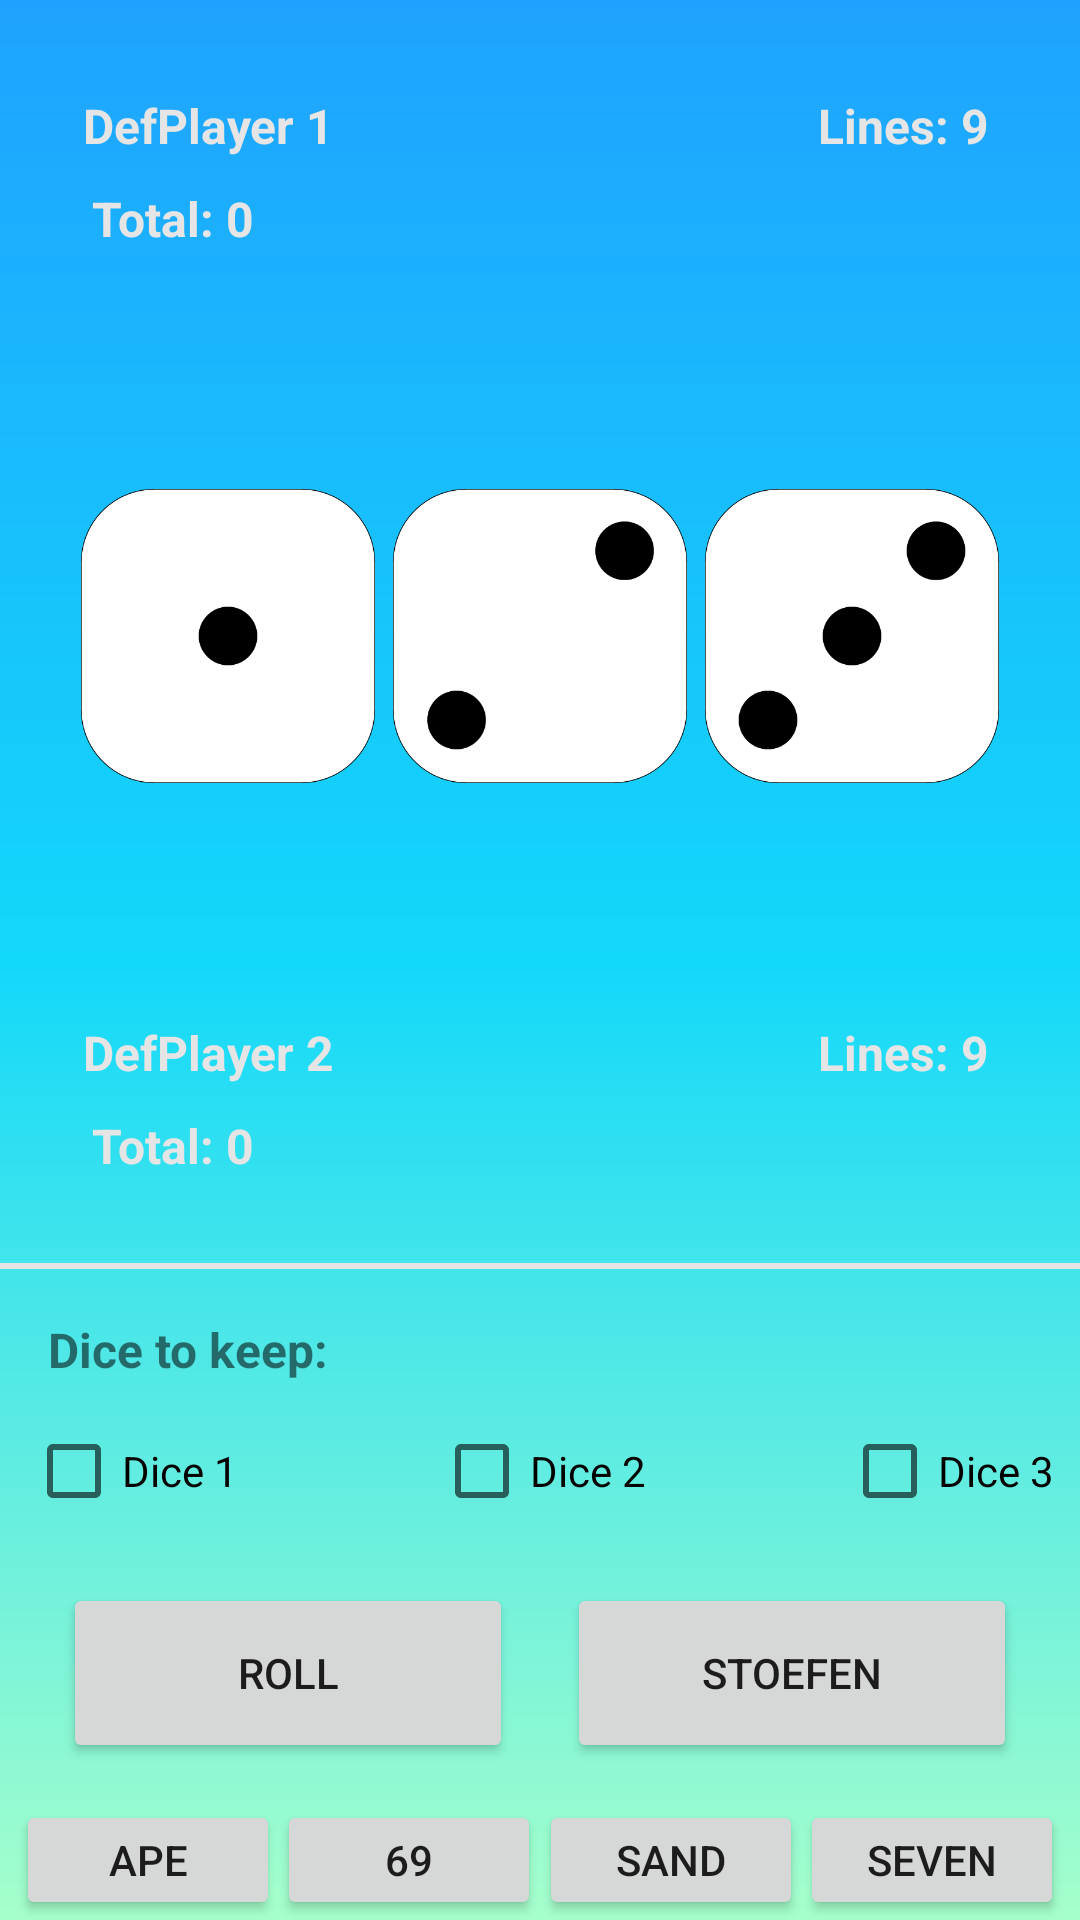

Icons on this 1080px×1920px Android screen, each with the point to tap as point (x, y):
dice: point (228, 636), point (540, 636), point (852, 636)
